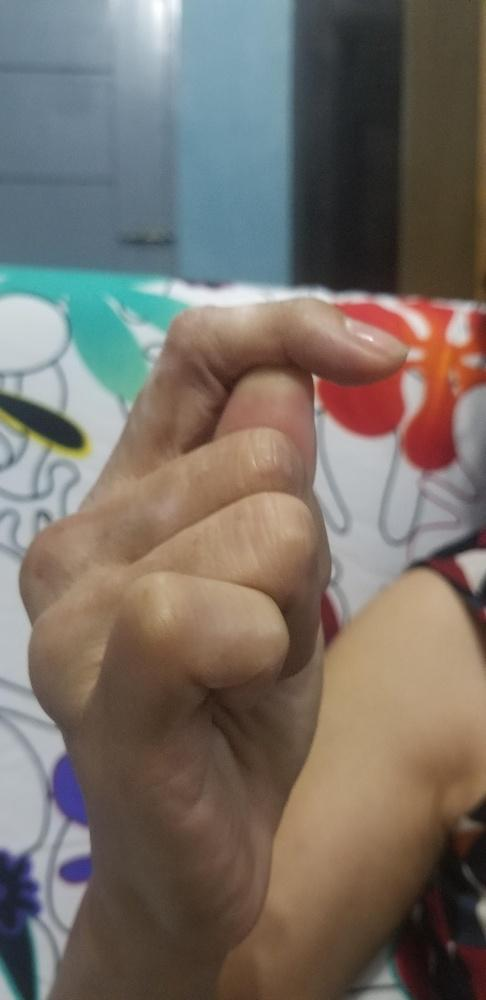t: (13, 296, 416, 957)
